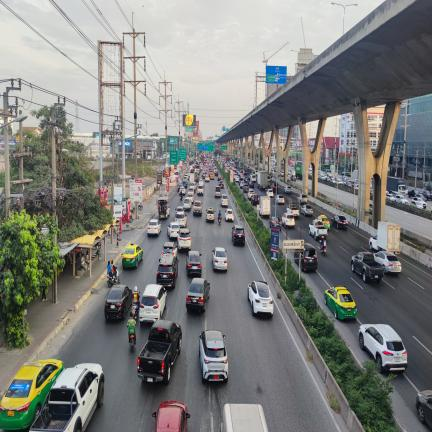car: (359, 324, 407, 373), (199, 330, 228, 382), (139, 284, 167, 324), (104, 285, 133, 320), (248, 281, 273, 317), (186, 278, 210, 312), (156, 255, 178, 288), (416, 390, 432, 428), (375, 251, 401, 274), (122, 244, 143, 269), (299, 243, 317, 271), (186, 251, 202, 277), (212, 247, 227, 271), (178, 228, 191, 250), (232, 225, 245, 246), (161, 242, 177, 259), (331, 215, 348, 230), (147, 219, 161, 236), (167, 222, 180, 240), (174, 211, 187, 228), (411, 196, 426, 209), (282, 213, 295, 228), (417, 190, 432, 201), (300, 204, 313, 216), (369, 235, 378, 251), (269, 216, 281, 228), (395, 195, 409, 205), (410, 201, 425, 209), (225, 209, 234, 222), (297, 194, 307, 205), (183, 198, 192, 210), (221, 194, 228, 207), (187, 191, 194, 204), (276, 194, 285, 204), (407, 189, 417, 198), (251, 194, 259, 205), (386, 192, 395, 201), (272, 184, 279, 195), (197, 185, 204, 196), (294, 251, 300, 263), (284, 185, 292, 194), (179, 185, 186, 195), (188, 187, 196, 195), (189, 182, 196, 191), (266, 188, 273, 197), (176, 206, 184, 212), (219, 180, 224, 189), (239, 180, 244, 189), (234, 176, 240, 183), (198, 179, 204, 186), (209, 172, 214, 180), (177, 183, 181, 192), (249, 181, 254, 188), (205, 176, 210, 182), (217, 176, 222, 181), (202, 172, 205, 180), (161, 311, 162, 315), (200, 180, 200, 181), (160, 318, 160, 319)
human: (127, 312, 136, 344), (133, 286, 140, 309), (79, 252, 87, 271), (85, 251, 90, 268), (107, 261, 111, 275), (218, 210, 222, 220), (137, 310, 139, 316), (79, 269, 79, 269)
motorbike: (107, 268, 120, 288), (132, 304, 139, 321), (129, 333, 136, 350), (320, 242, 326, 256), (138, 204, 143, 210), (218, 216, 221, 225), (180, 193, 183, 201)
pickup: (30, 363, 104, 432), (137, 320, 182, 384), (351, 252, 385, 283), (309, 219, 328, 240), (286, 199, 299, 218), (286, 202, 299, 218), (206, 207, 215, 223), (193, 201, 202, 216), (287, 169, 296, 181), (248, 189, 255, 200), (215, 186, 221, 198), (289, 200, 290, 201)
taxi: (0, 359, 64, 430), (324, 286, 356, 319), (317, 215, 330, 230), (209, 172, 214, 180)
truck: (369, 221, 400, 254), (386, 176, 408, 195), (157, 197, 170, 219), (259, 196, 271, 217), (256, 171, 268, 190), (295, 163, 303, 180), (194, 170, 199, 183), (238, 161, 244, 171), (201, 154, 204, 163)
van: (215, 186, 221, 197)
